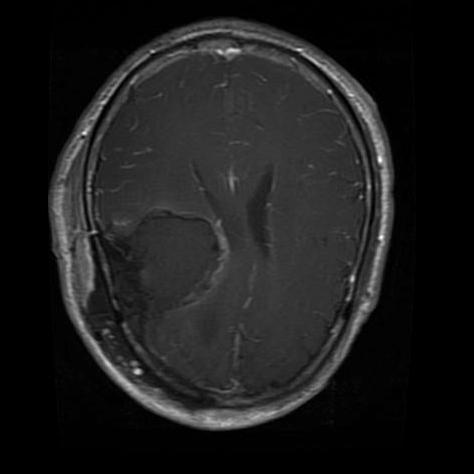Tumour-Glioma: (117, 205, 234, 321)
